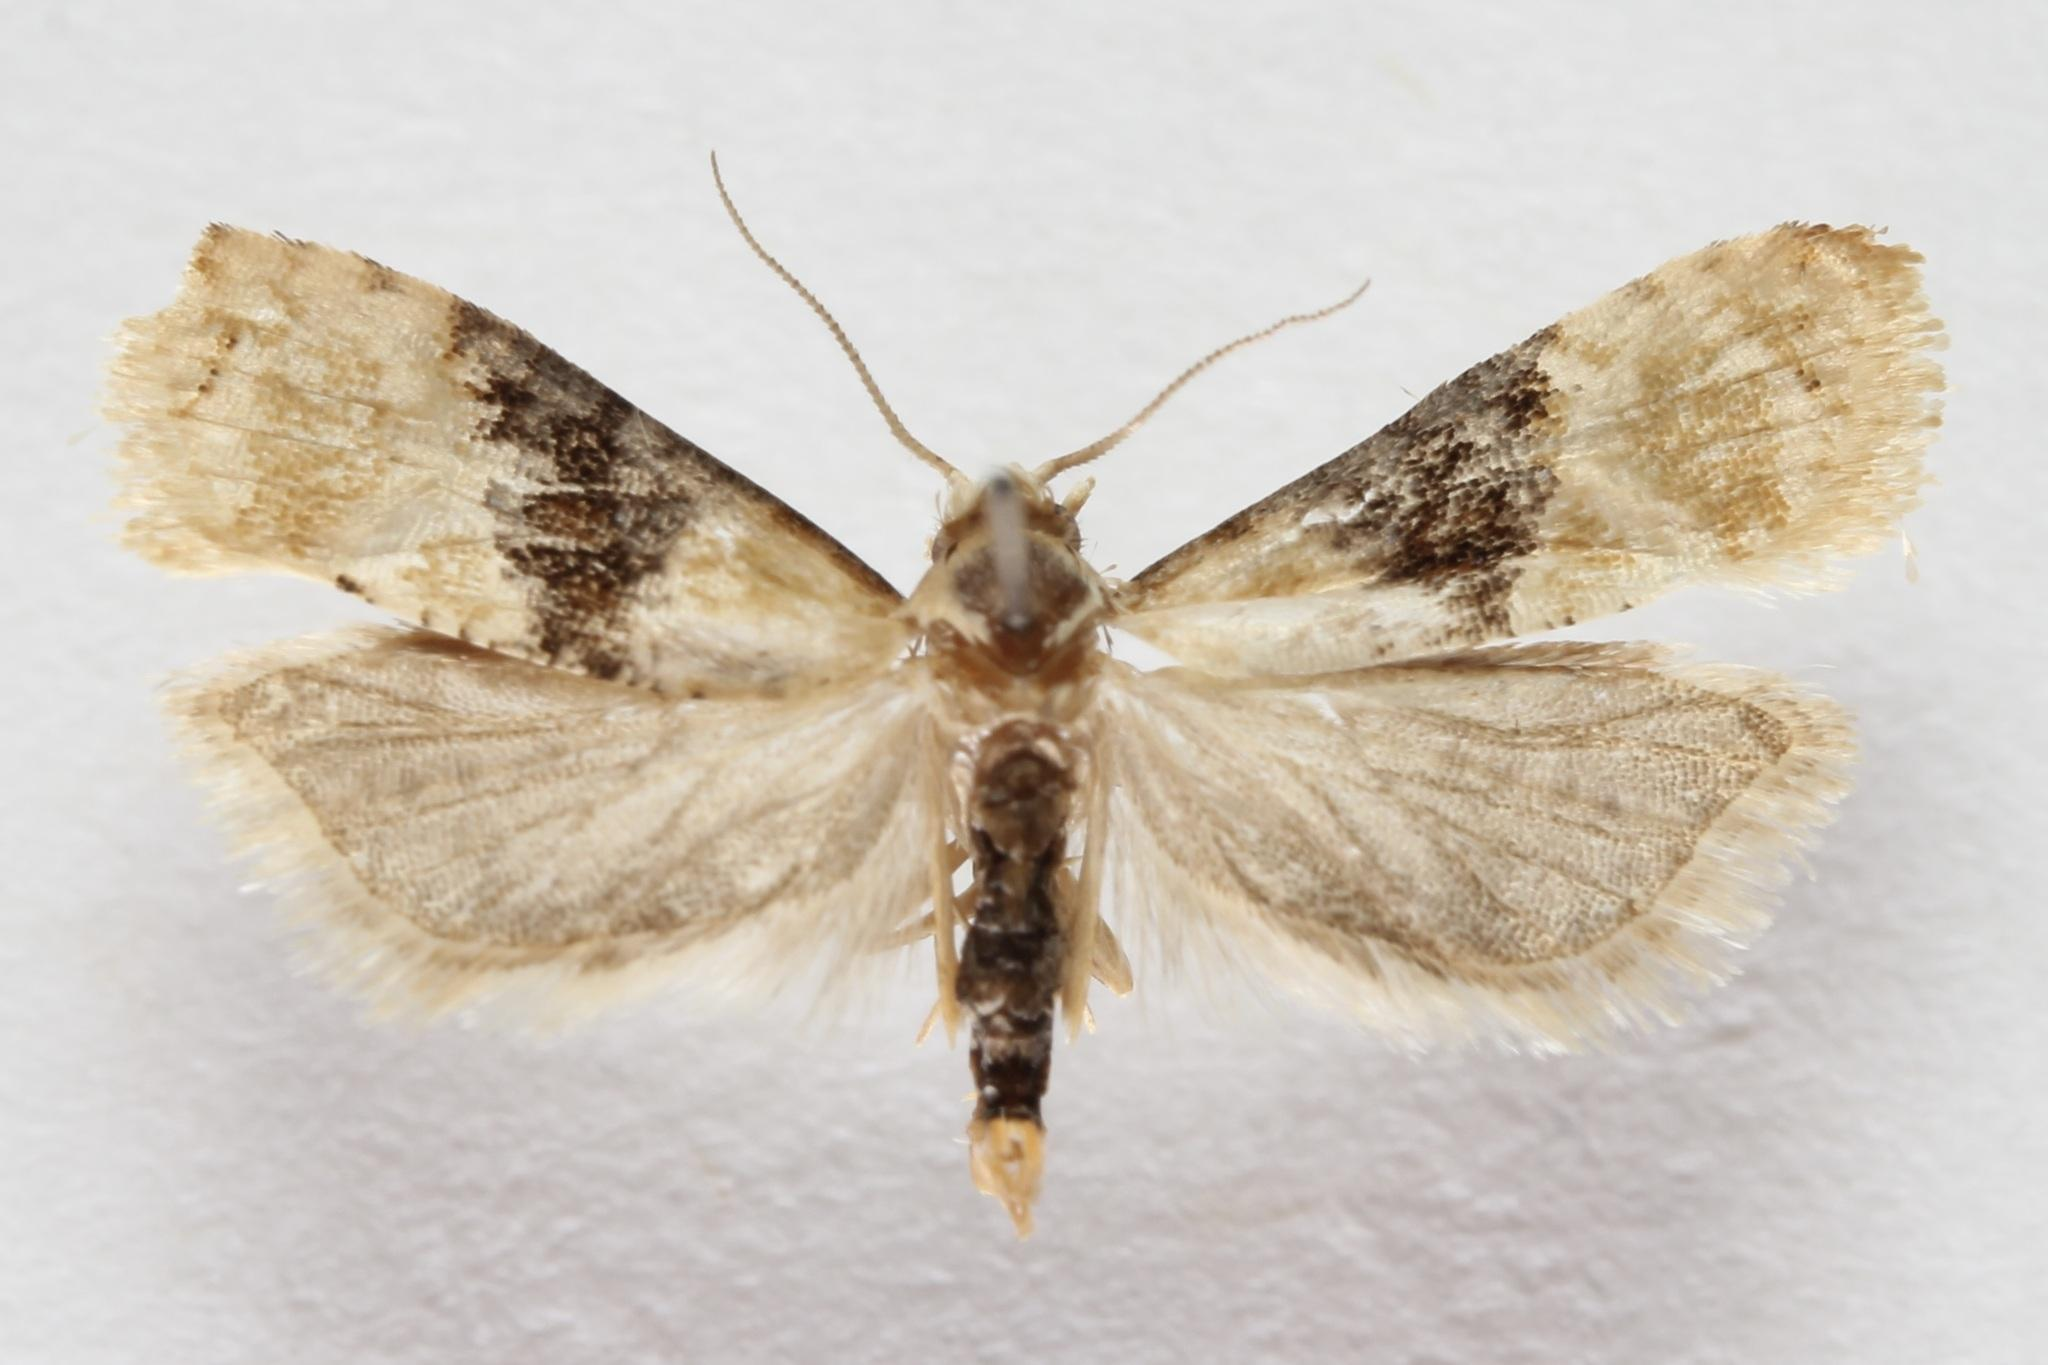Eupoecilia Ambiguella: (97, 149, 1951, 1240)
